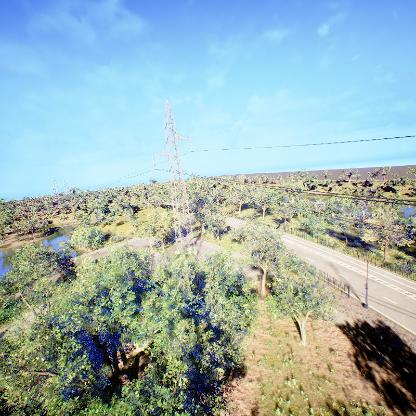tower: (150, 100, 202, 257)
